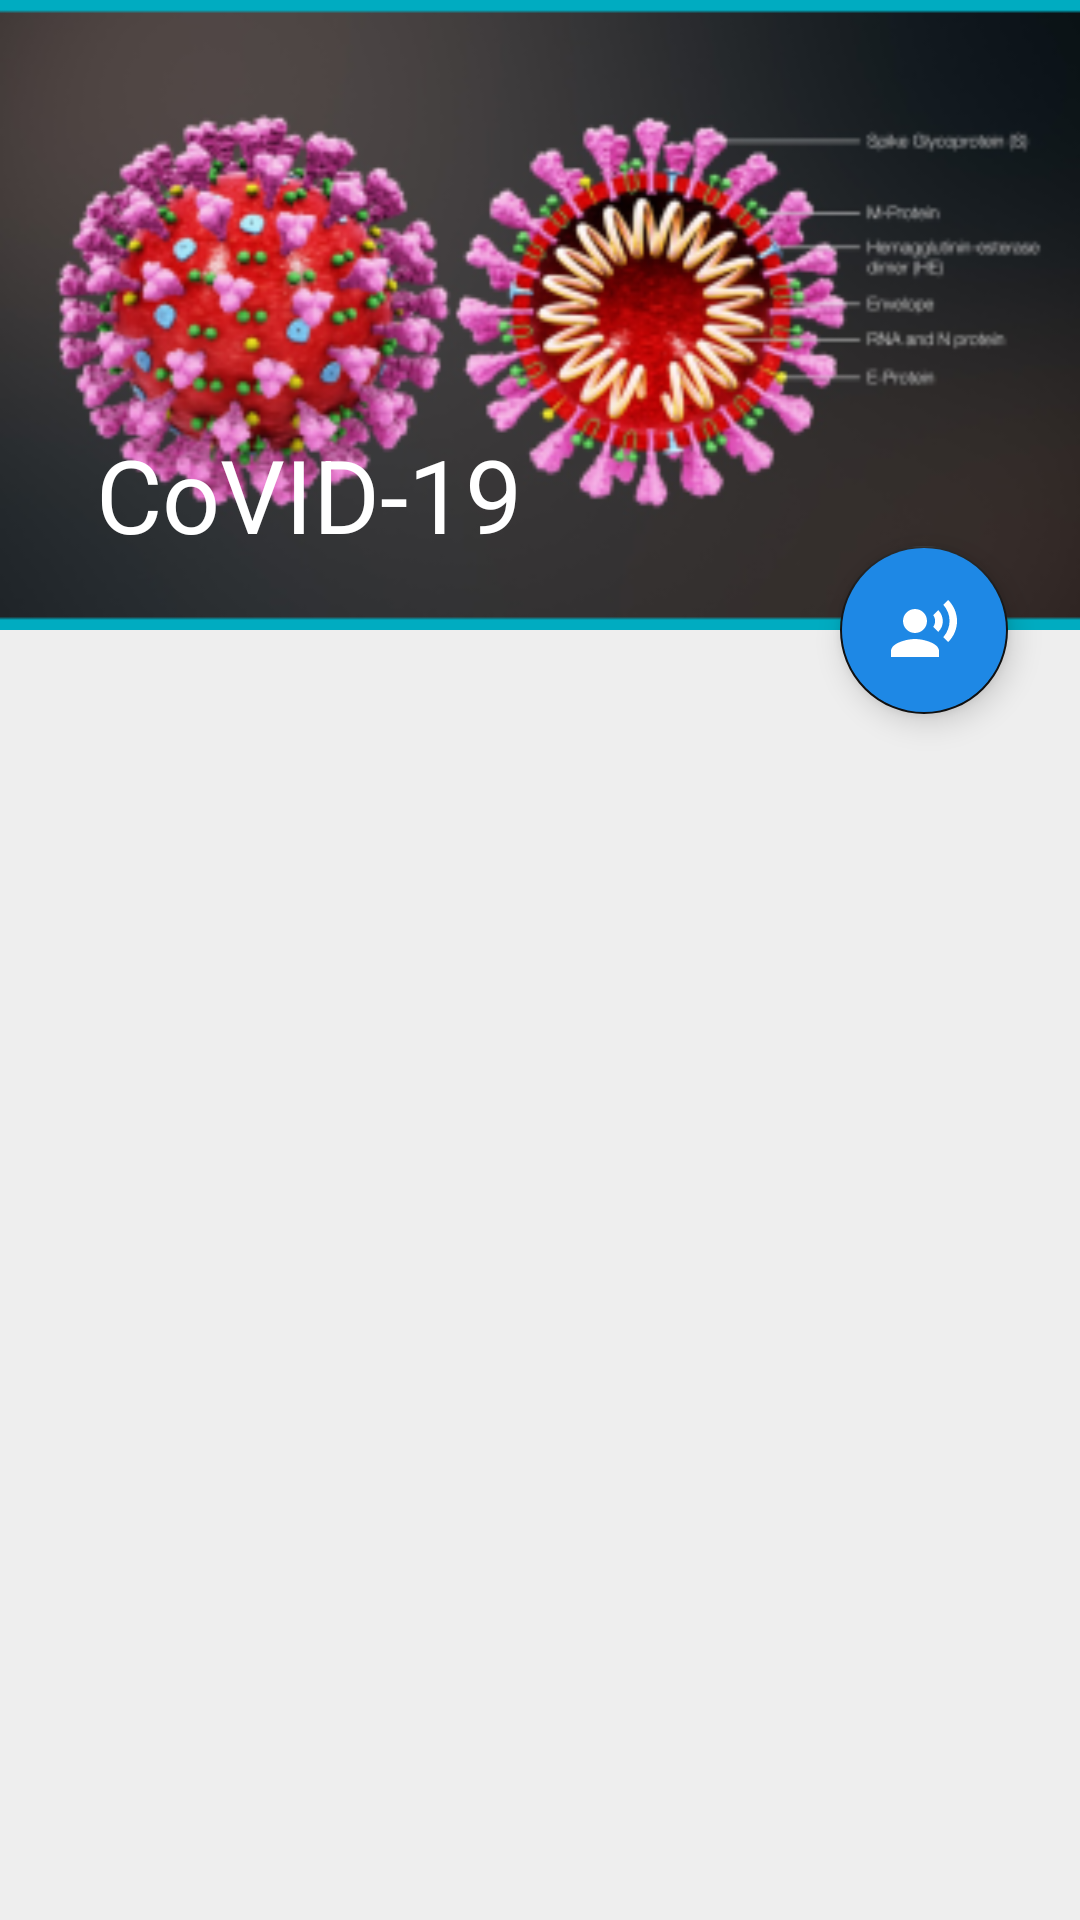

Icons on this 1080px x 1920px Android screen, each with the point to tap as point (x, y):
account voice: point (924, 630)
